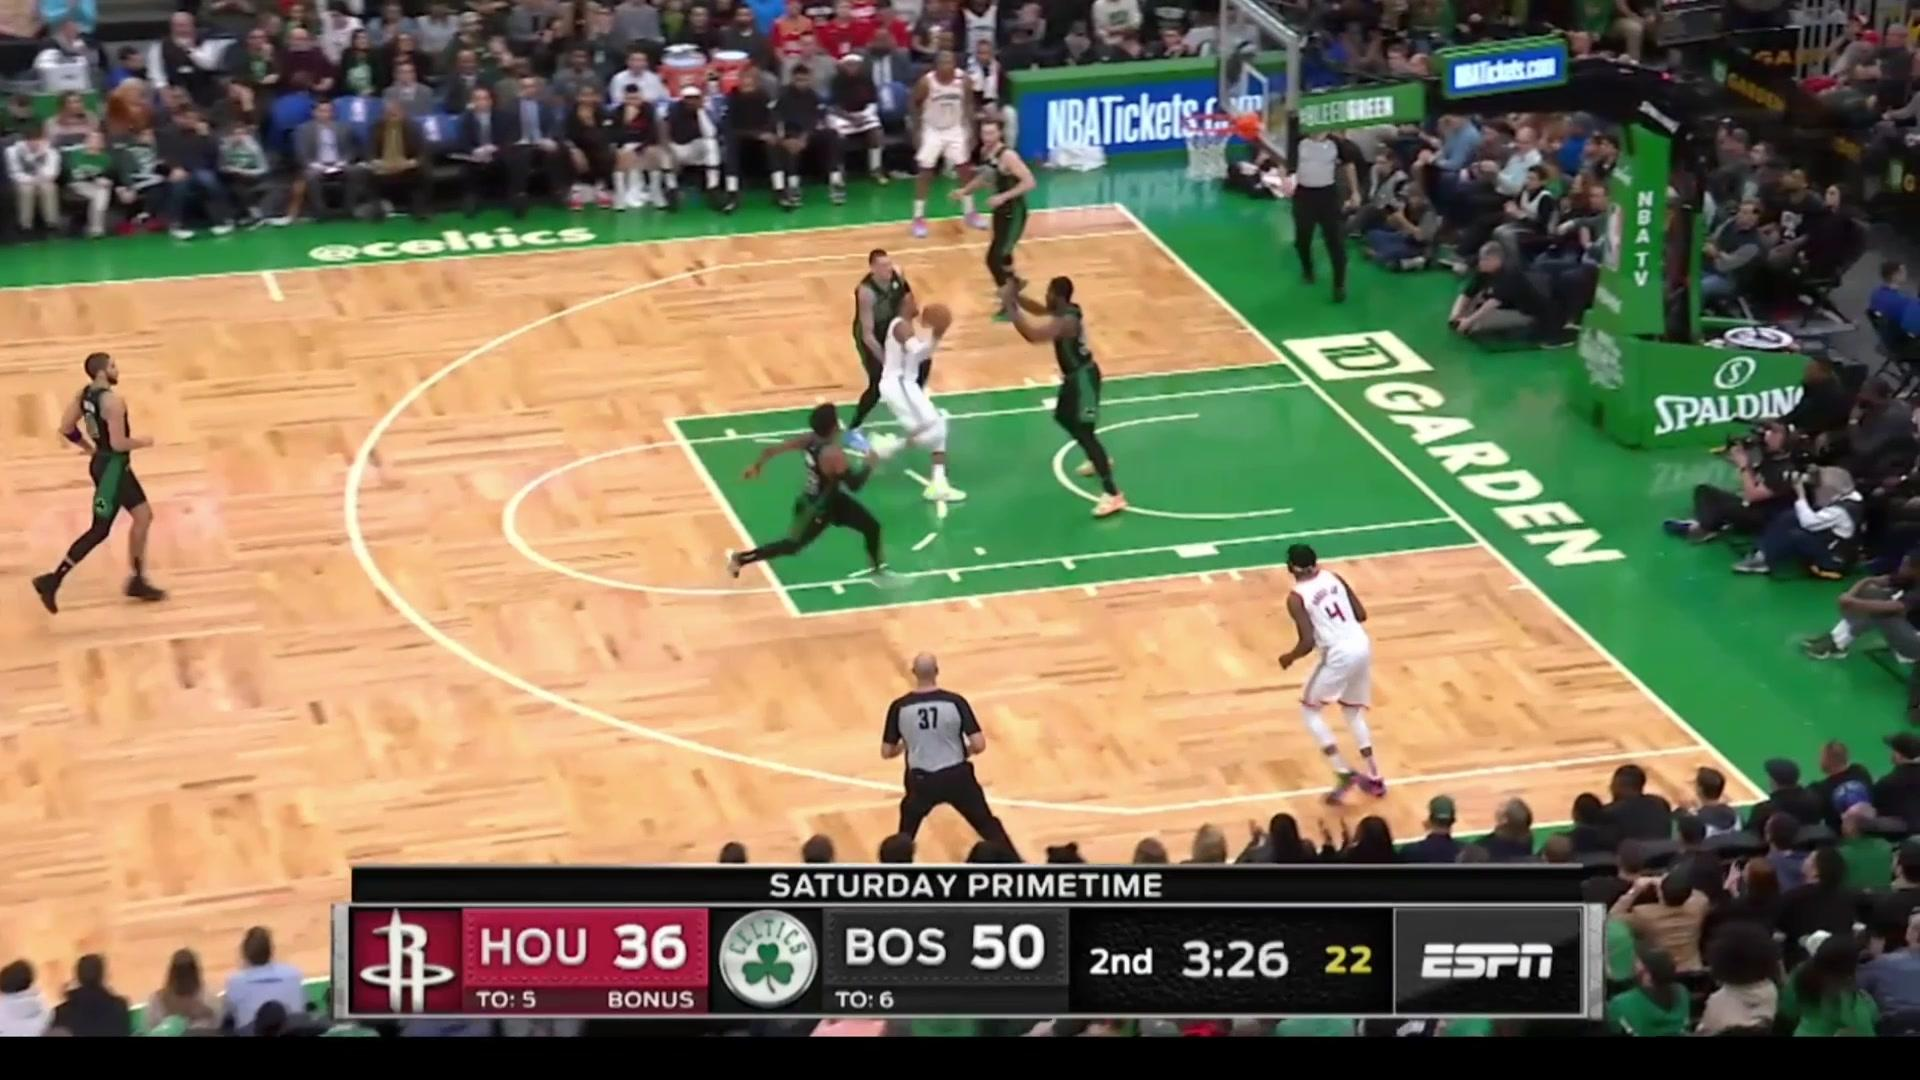no_foul: (787, 335, 944, 558)
